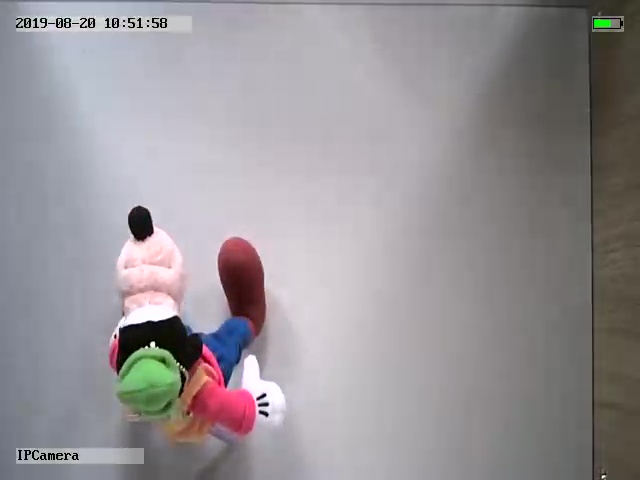goofy: (105, 205, 287, 445)
